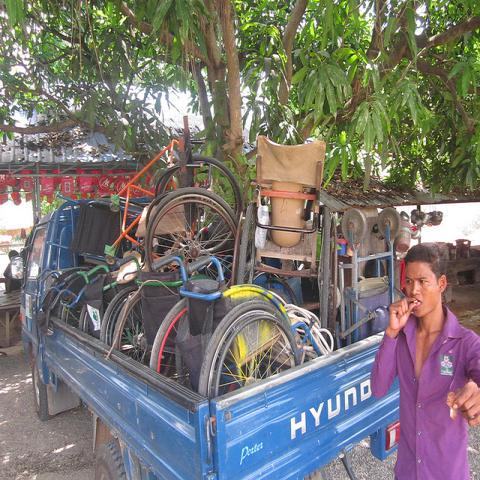truck: (18, 200, 400, 479)
